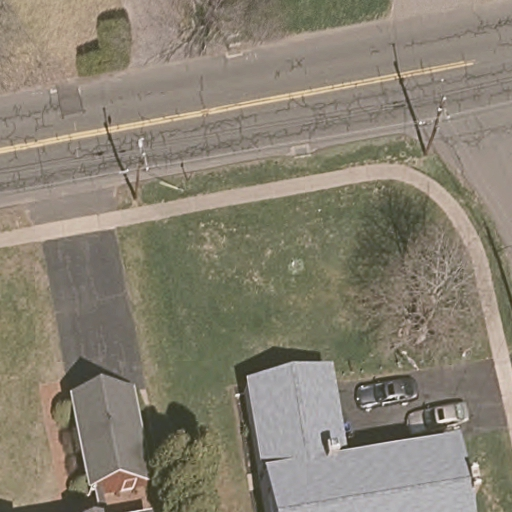DT: (119, 137, 151, 204), (417, 94, 450, 157)
